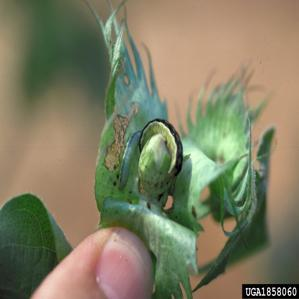Beet armyworm: (127, 111, 193, 186)
